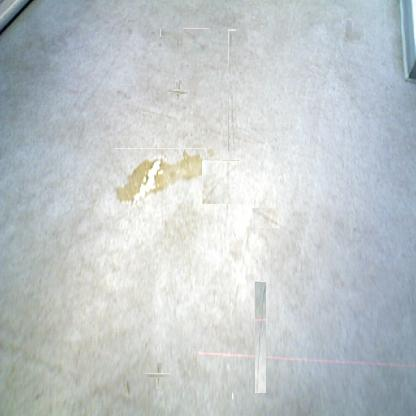liquid: (114, 148, 204, 205), (206, 149, 214, 156)
mark: (202, 160, 239, 204), (254, 282, 266, 393), (228, 30, 236, 152), (184, 28, 209, 52), (342, 18, 364, 44), (252, 208, 279, 228), (151, 368, 166, 384), (115, 86, 131, 100), (172, 84, 186, 98), (124, 378, 130, 396), (150, 29, 157, 35), (160, 29, 165, 37), (158, 41, 162, 47), (172, 16, 176, 22)
